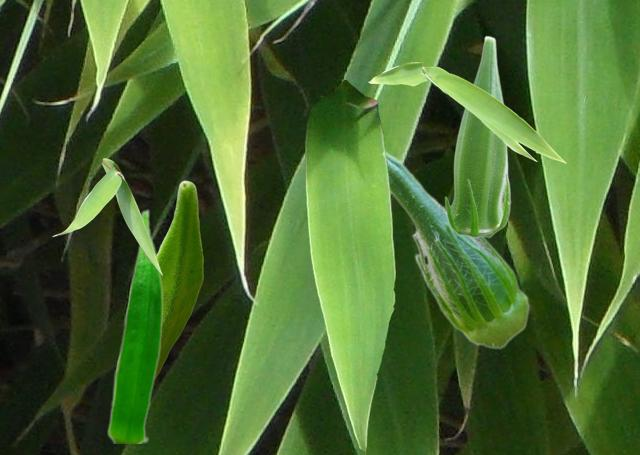okra: (386, 150, 529, 348), (444, 35, 510, 237), (107, 208, 163, 442), (157, 180, 202, 376)
